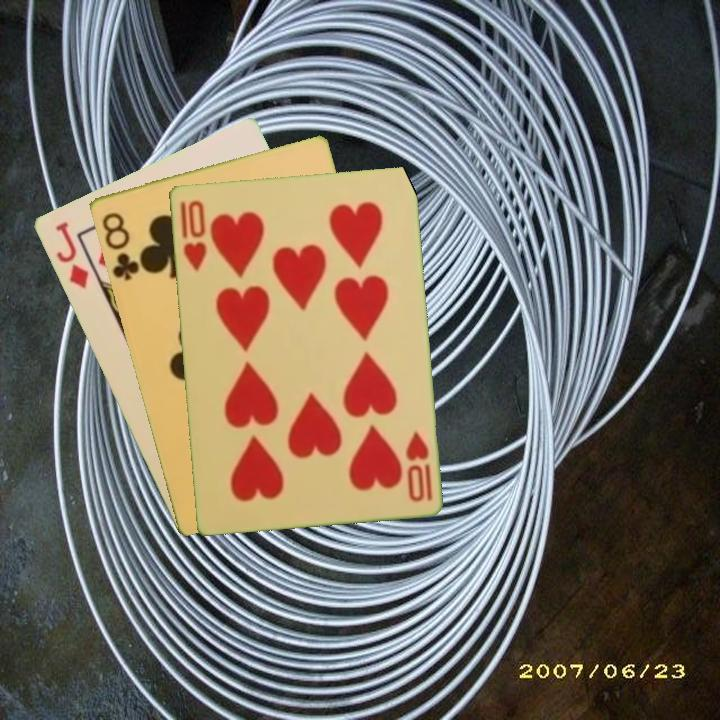10h: (401, 427, 435, 504), (179, 196, 209, 274)
8c: (97, 208, 145, 284)
Jd: (51, 217, 91, 292)
